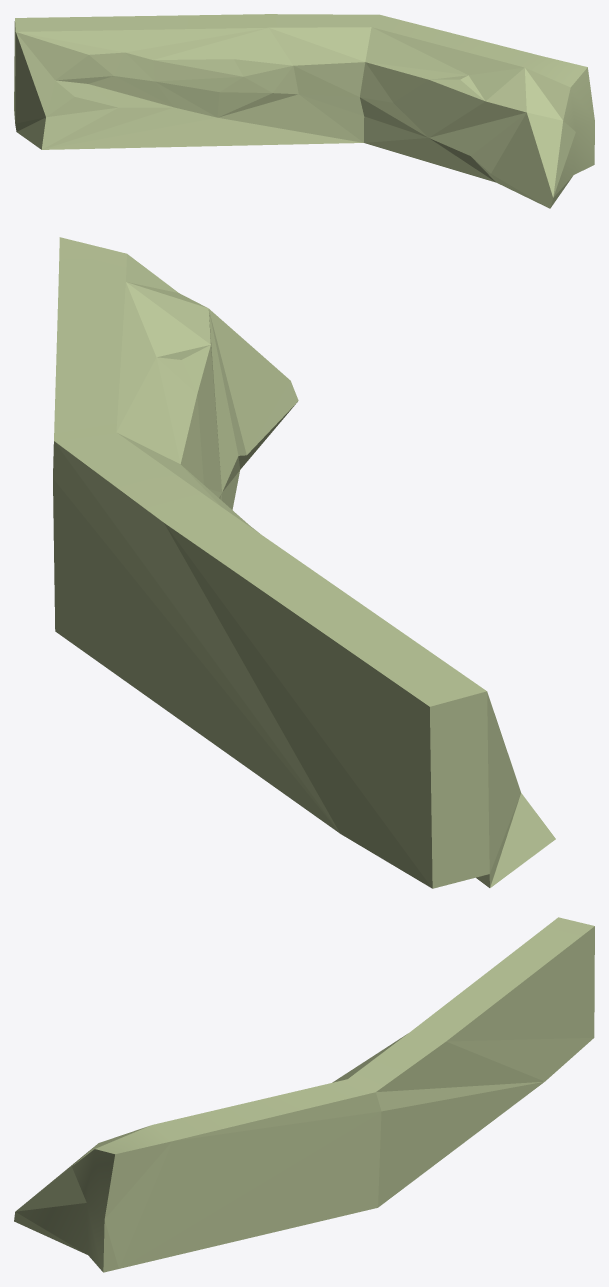
File: hill_20.gltf
3 views of the same model, one above another, from view 1: azimuth 30°, elevation 25°; view 2: azimuth 150°, elevation 25°; view 3: azimuth 270°, elevation 25° (orthographic). The views are drawn at different scales.
Visible parts, largest first — view 1: hill; view 2: hill; view 3: hill.
Part boxes in pixels (x1,y1,x2,y2): hill: (14,14,594,208); hill: (53,237,555,888); hill: (14,917,594,1272).
Size of the model in its own units: 4.59 by 1.1 by 4.67.
